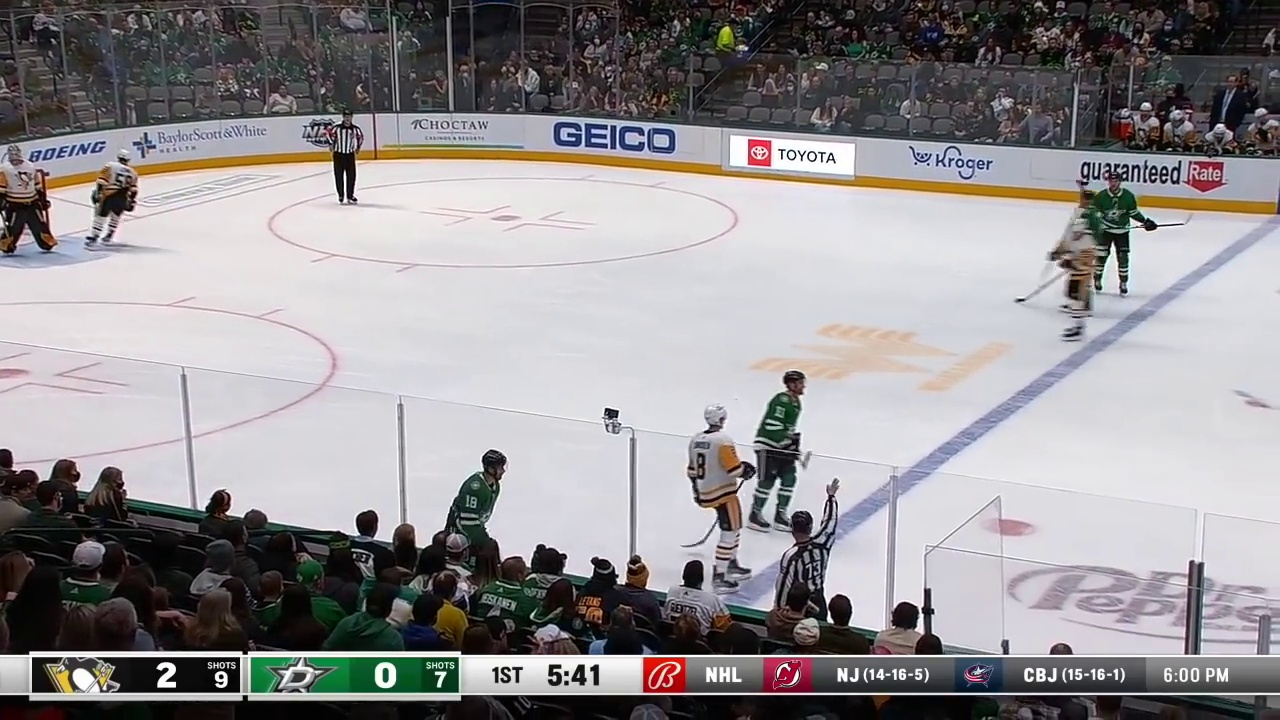goalie: (1, 144, 58, 256)
hockeyplayer: (687, 404, 756, 593), (747, 370, 806, 533), (1091, 172, 1157, 298), (444, 449, 508, 555), (1047, 219, 1095, 342), (85, 149, 139, 250)
referee: (774, 478, 840, 620), (326, 109, 365, 205)
